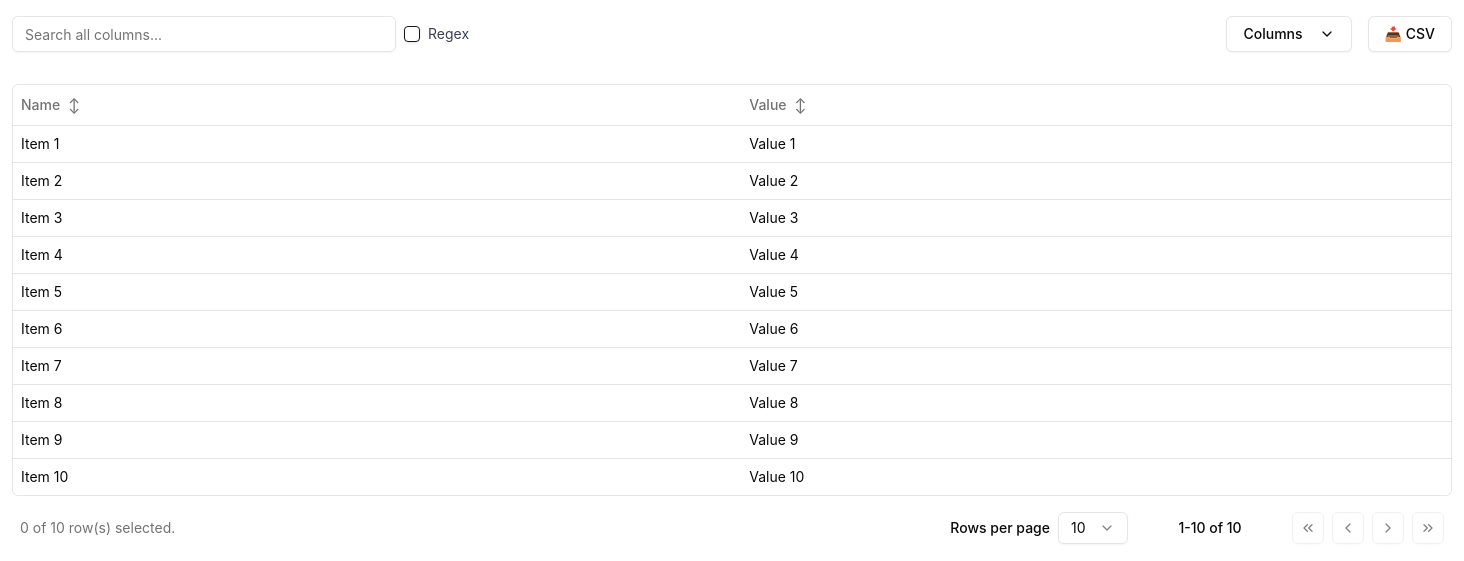
Test: DataTable Pagination › should handle filtering with pagination
Filter the data with a term that will match only one item
Type "Item 5" into the field with placeholder "Search all columns..." at (204, 34), box 12,16 -> 396,52
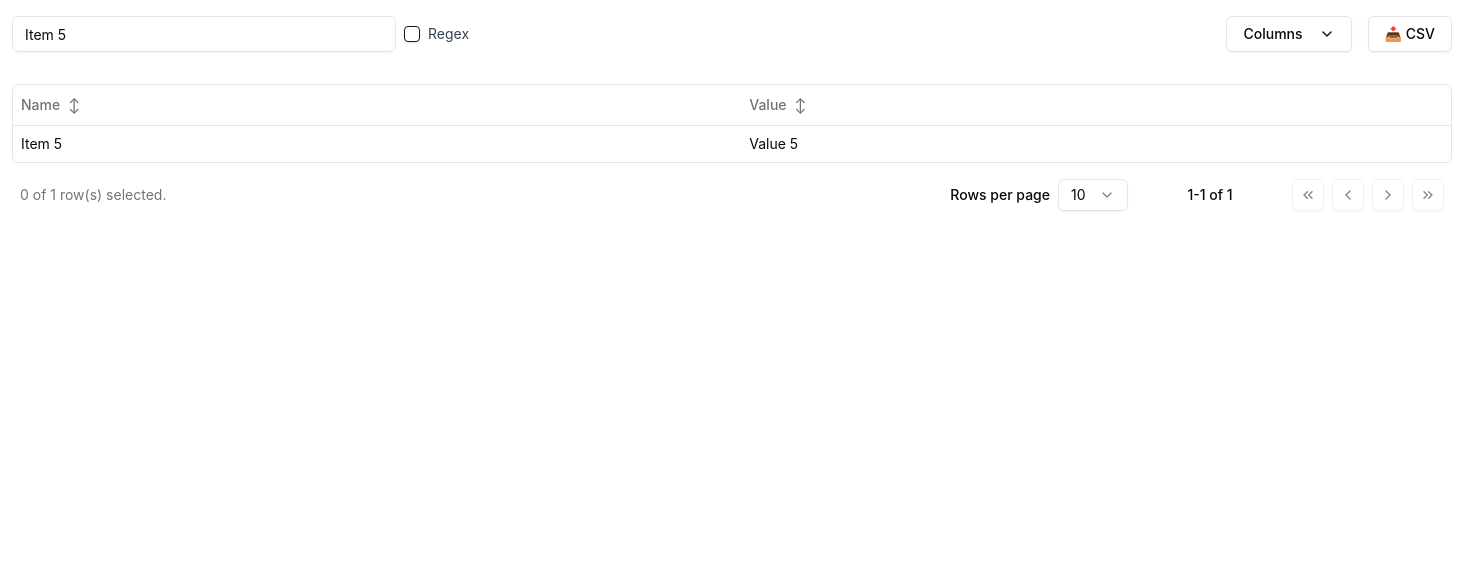
Expected: the text "Item 5" is shown, 13,125 -> 741,162
Expected: the text "Item 2" is gone
Expected: the text "1-1 of 1" is shown, 1187,186 -> 1232,202
